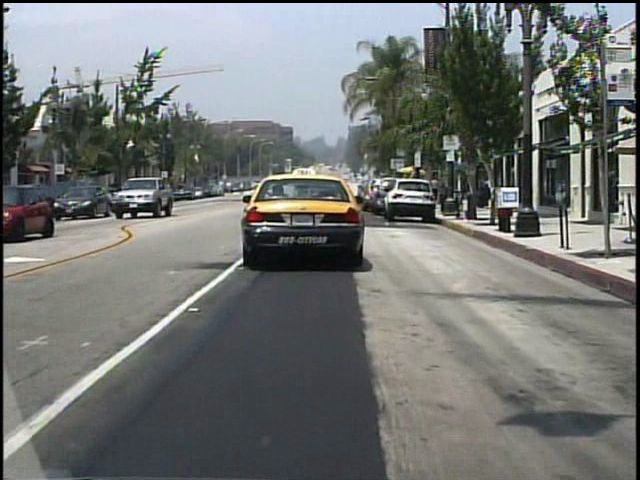person: (428, 176, 439, 203)
